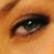eye: (24, 20, 36, 30)
